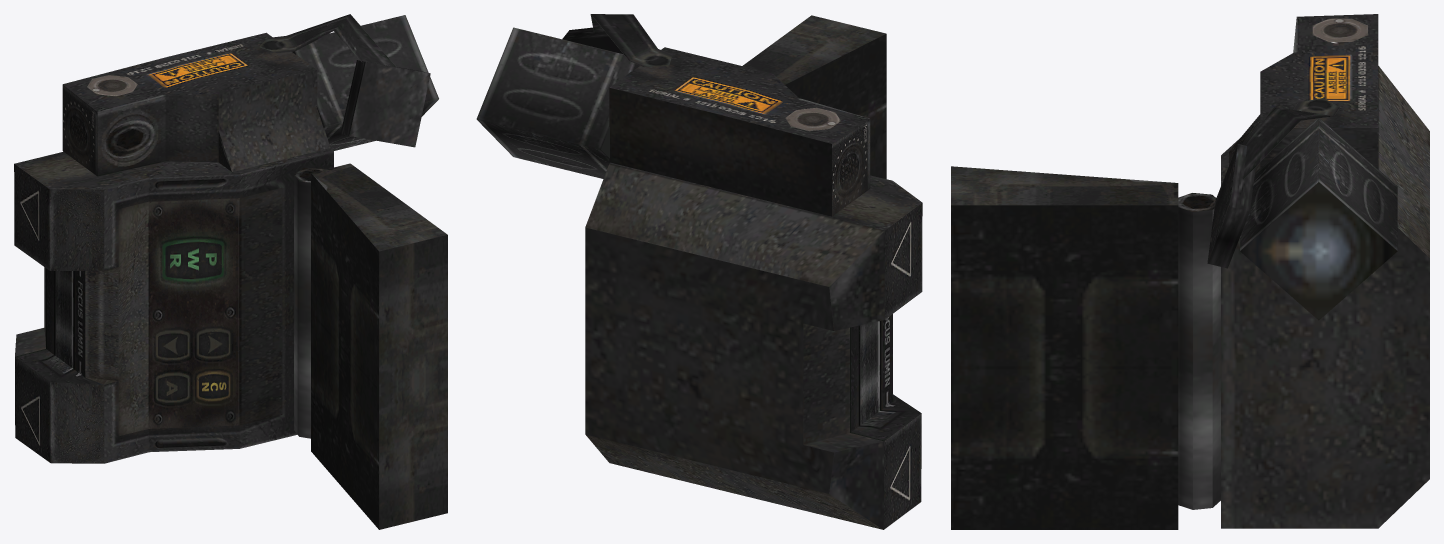
The model's file is t6_attach_optic_mms_world_LOD1.obj.
3 views of the same model, side by side, from view 1: azimuth 30°, elevation 25°; view 2: azimuth 150°, elevation 25°; view 3: azimuth 270°, elevation 25° (orthographic). The views are drawn at different scales.
Parts seen in each view (by area): view 1: mtl_t6_attach_optic_mms, mtl_t6_attach_optic_mms_camo1; view 2: mtl_t6_attach_optic_mms, mtl_t6_attach_optic_mms_camo1; view 3: mtl_t6_attach_optic_mms, mtl_t6_attach_optic_mms_camo1.
Part boxes in pixels (bbox=[...]): mtl_t6_attach_optic_mms: bbox=[14, 14, 438, 529]; mtl_t6_attach_optic_mms_camo1: bbox=[311, 60, 447, 529]; mtl_t6_attach_optic_mms: bbox=[476, 14, 922, 529]; mtl_t6_attach_optic_mms_camo1: bbox=[562, 15, 885, 84]; mtl_t6_attach_optic_mms: bbox=[951, 14, 1429, 529]; mtl_t6_attach_optic_mms_camo1: bbox=[951, 144, 1255, 268].
Size of the model in its own units: 6.44 by 6.34 by 6.26.
